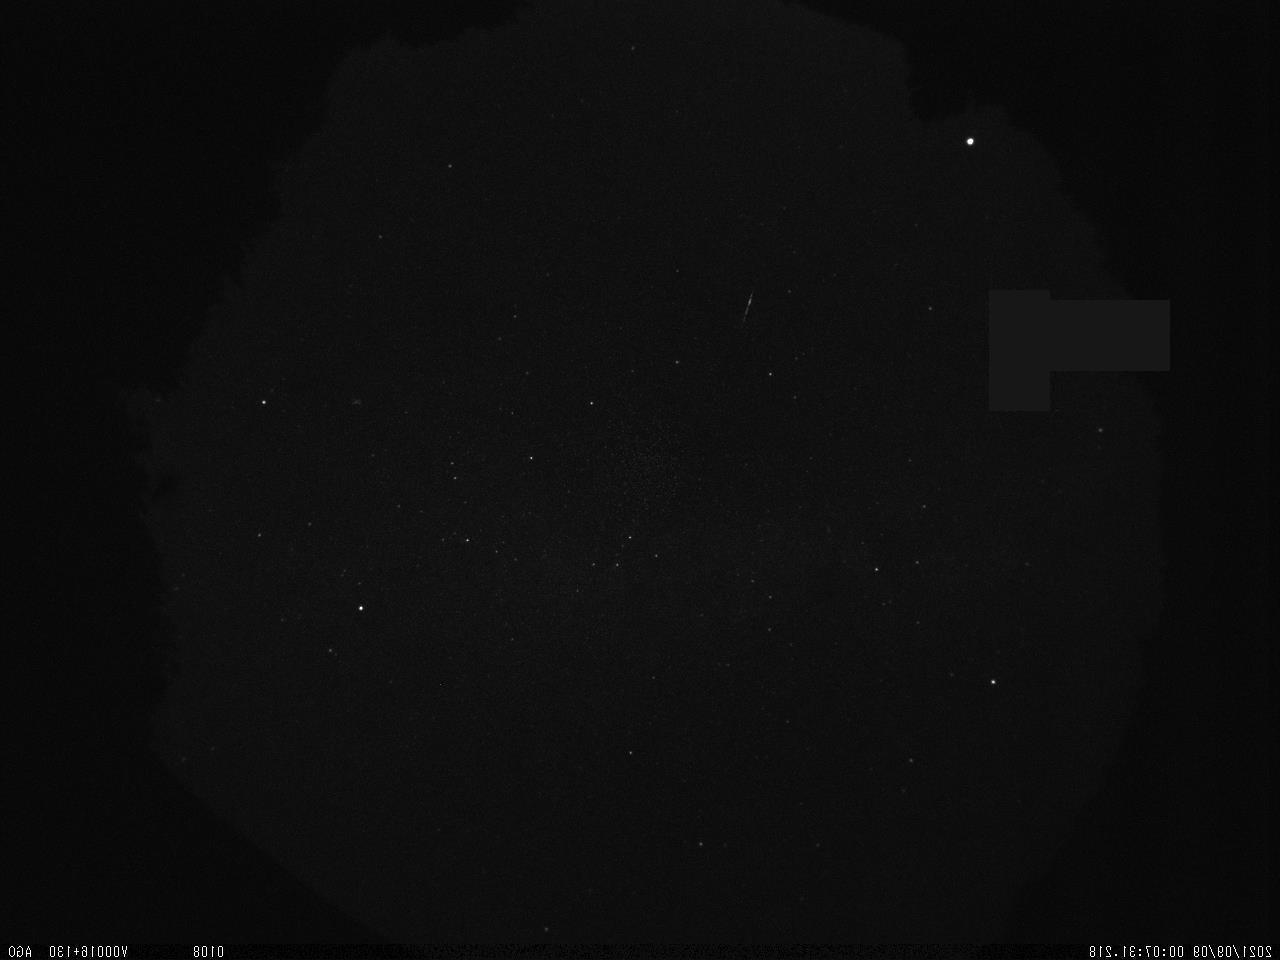meteor: (731, 284, 765, 332)
